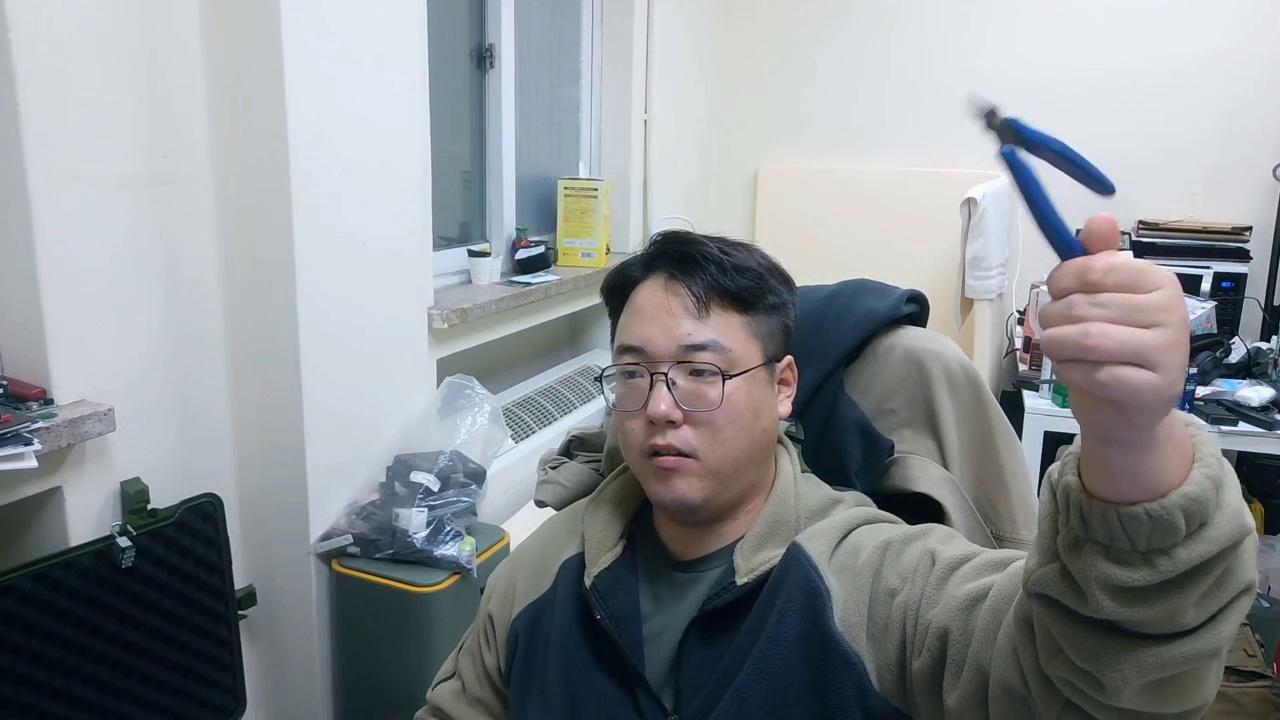blue_pliers: (967, 91, 1119, 264)
